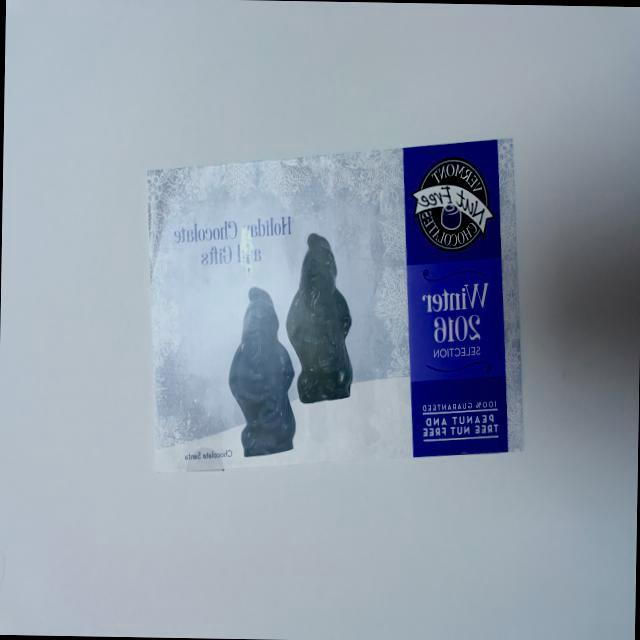paper: (136, 127, 526, 490)
